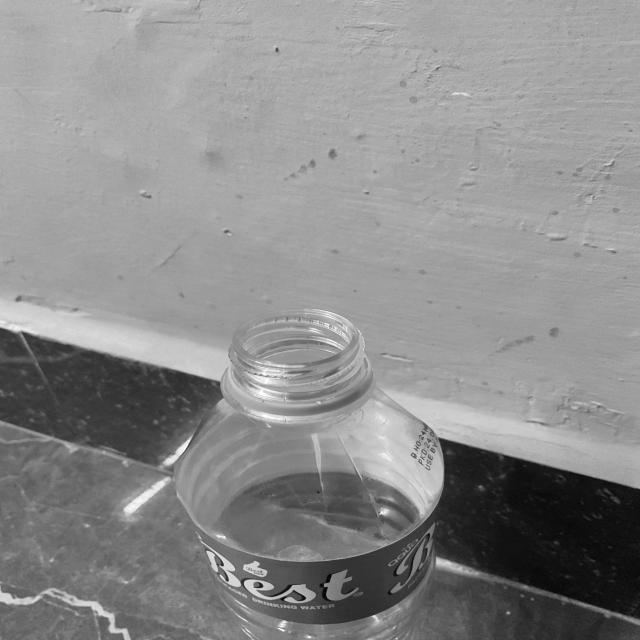open-cap: (222, 311, 372, 411)
